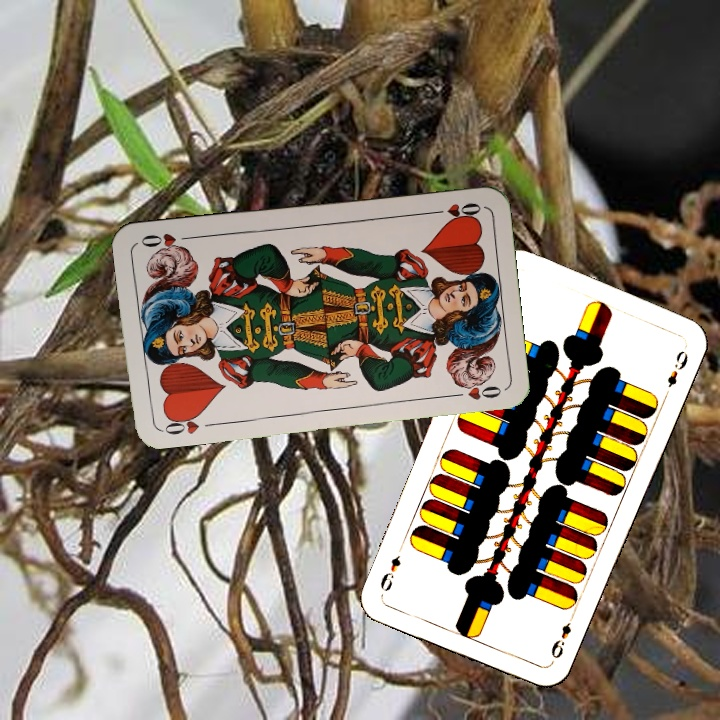E9: (546, 611, 577, 662)
HO: (425, 198, 484, 222), (156, 409, 204, 437)
